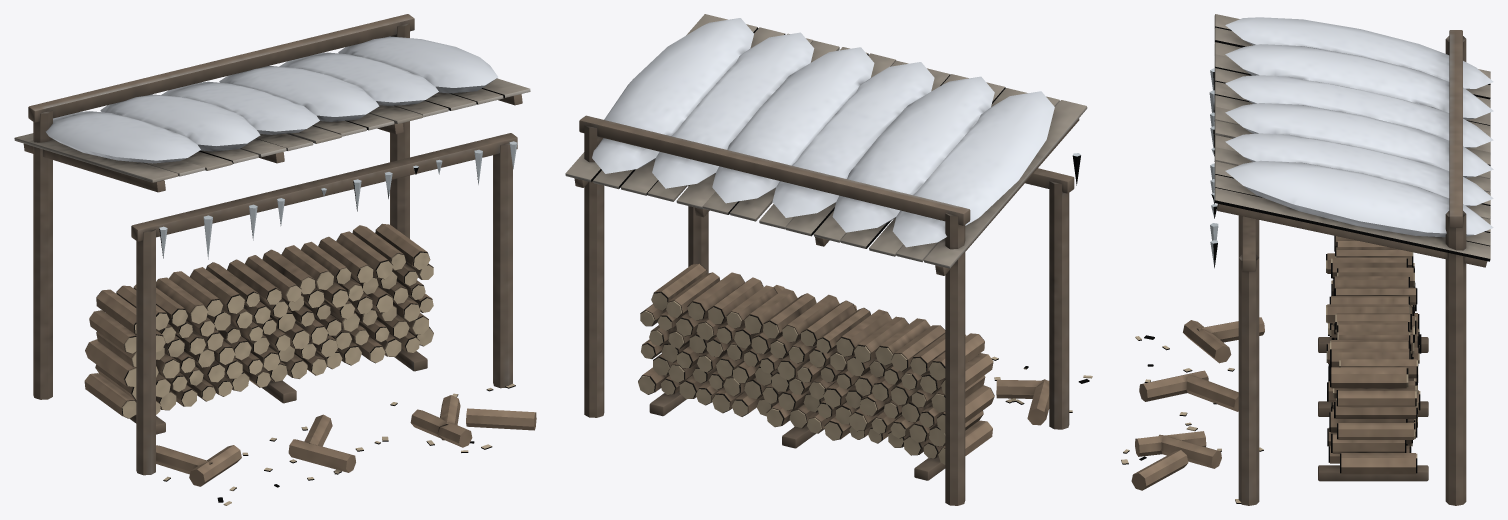
The model's file is woodshed.glb.
3 renders of one model, left to right at view 1: azimuth 30°, elevation 25°; view 2: azimuth 150°, elevation 25°; view 3: azimuth 270°, elevation 25°, orthographic.
Visible parts, largest first — view 1: woodshed; view 2: woodshed; view 3: woodshed.
Boxes of the visible parts, left/top/right/bottom form: woodshed: left=14, top=14, right=536, bottom=505; woodshed: left=565, top=14, right=1092, bottom=505; woodshed: left=1121, top=14, right=1493, bottom=505.
Bounding box in the file's own units: 3.25 × 2.56 × 2.7.
1 material, 1 textured.
